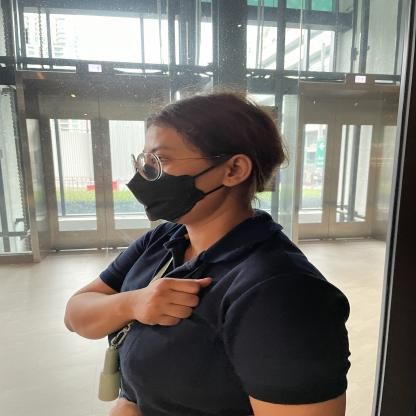Sadness: (51, 265, 212, 348)
